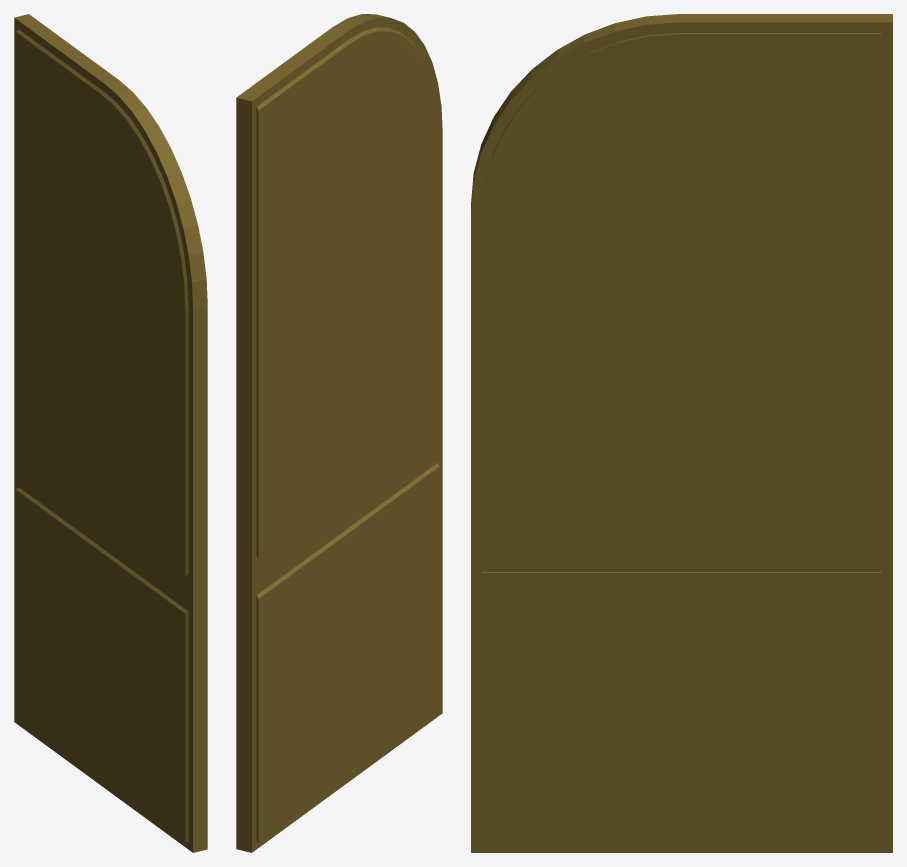
Rendered from DoorsLVL1.fbx.
3 renders of one model, left to right at view 1: azimuth 30°, elevation 25°; view 2: azimuth 150°, elevation 25°; view 3: azimuth 270°, elevation 25°, orthographic. The views are drawn at different scales.
Parts seen in each view (by area): view 1: Cube; view 2: Cube; view 3: Cube.
Part boxes in pixels (<box>): Cube: <box>14,14,207,852</box>; Cube: <box>236,14,442,852</box>; Cube: <box>471,14,892,852</box>.
Size of the model in its own units: 32.23 by 1147 by 528.
